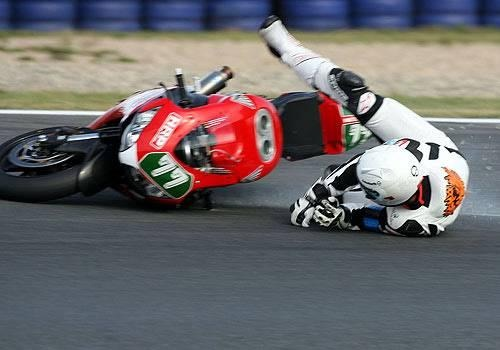falling: (262, 18, 487, 228)
